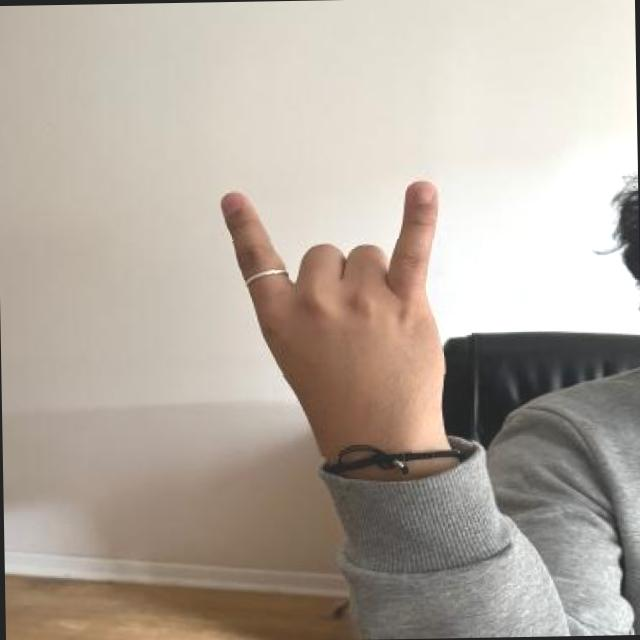U: (206, 168, 474, 458)
